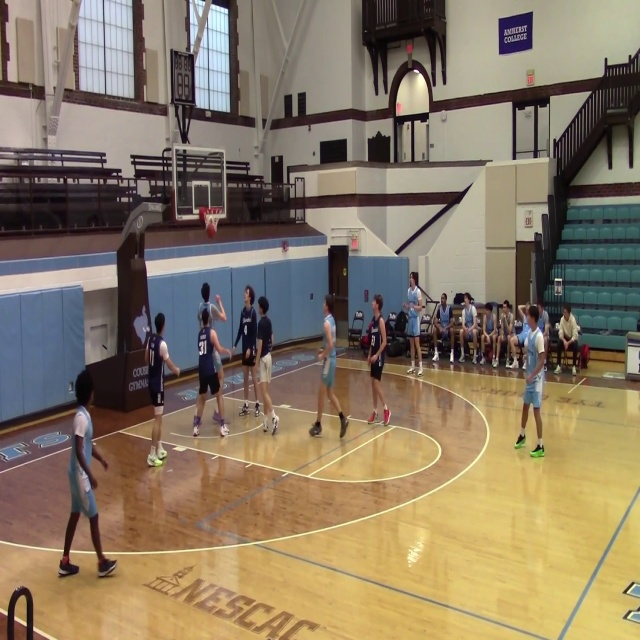Basketball: (206, 221, 216, 238)
